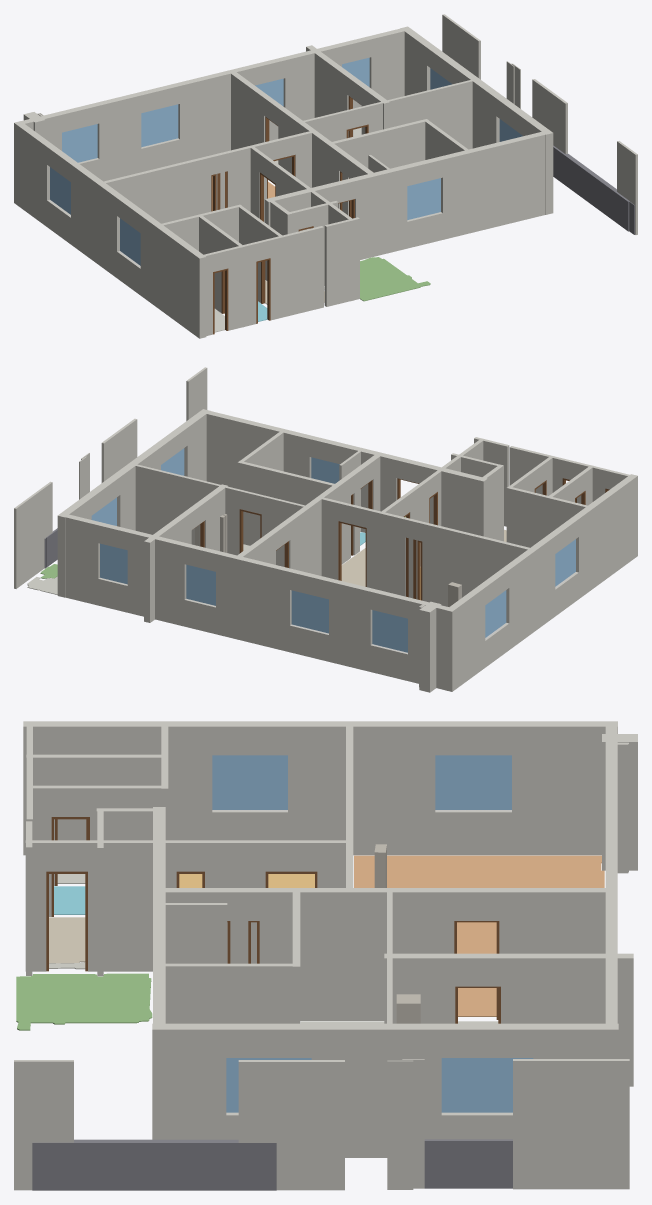
The picture shows the model from 3 angles, top to bottom: view 1: azimuth 30°, elevation 25°; view 2: azimuth 150°, elevation 25°; view 3: azimuth 270°, elevation 25°; orthographic projection. The views are drawn at different scales.
Visible parts, largest first — view 1: walls, railings, floor_12_Outdoor, window_18, window_9, window_17, window_11, window_16, window_19; view 2: walls, window_18, window_17, window_13, window_19, window_16, window_11, floor_4_Entry, window_9; view 3: walls, railings, floor_0_Living_Room, floor_12_Outdoor, window_16, window_11, window_15, floor_15_Entry, floor_13_Kitchen, floor_8_Bath, window_21, furniture_1_closet (+1 smaller).
Boxes of the visible parts, x1,y1,x2,y2 form: walls: [14, 14, 637, 338]; railings: [553, 145, 634, 234]; floor_12_Outdoor: [360, 257, 430, 301]; window_18: [141, 104, 178, 147]; window_9: [407, 178, 440, 219]; window_17: [62, 124, 97, 162]; window_11: [120, 218, 140, 265]; window_16: [50, 167, 70, 214]; window_19: [342, 57, 369, 86]; walls: [14, 367, 637, 692]; window_18: [291, 590, 328, 633]; window_17: [372, 610, 407, 652]; window_13: [186, 564, 215, 605]; window_19: [100, 543, 127, 584]; window_16: [485, 590, 506, 637]; window_11: [555, 539, 575, 586]; floor_4_Entry: [341, 548, 365, 586]; window_9: [311, 457, 339, 483]; walls: [14, 721, 637, 1190]; railings: [32, 1139, 512, 1190]; floor_0_Living_Room: [354, 855, 604, 1016]; floor_12_Outdoor: [16, 973, 152, 1030]; window_16: [435, 755, 511, 809]; window_11: [212, 755, 287, 809]; window_15: [441, 1058, 533, 1112]; floor_15_Entry: [49, 917, 85, 963]; floor_13_Kitchen: [179, 874, 314, 887]; floor_8_Bath: [54, 886, 85, 914]; window_21: [226, 1058, 311, 1112]; furniture_1_closet: [396, 994, 420, 1023].
Size of the model in its own units: 15.35 by 2.72 by 11.88.
